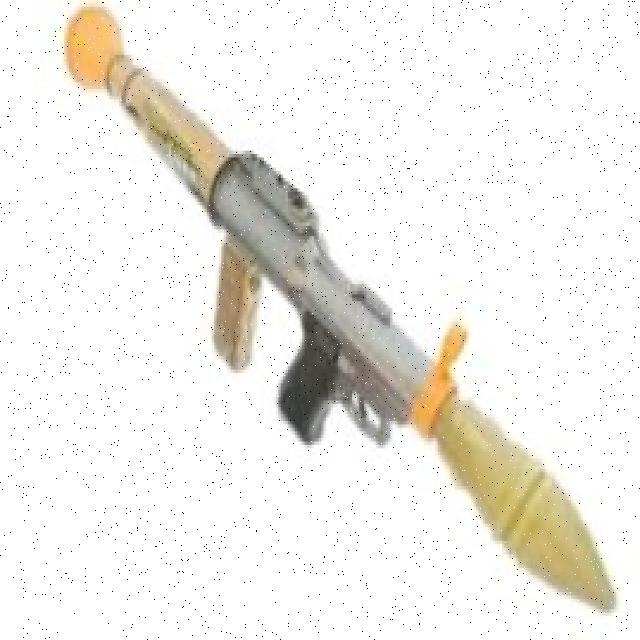bazooka: (56, 1, 627, 624)
